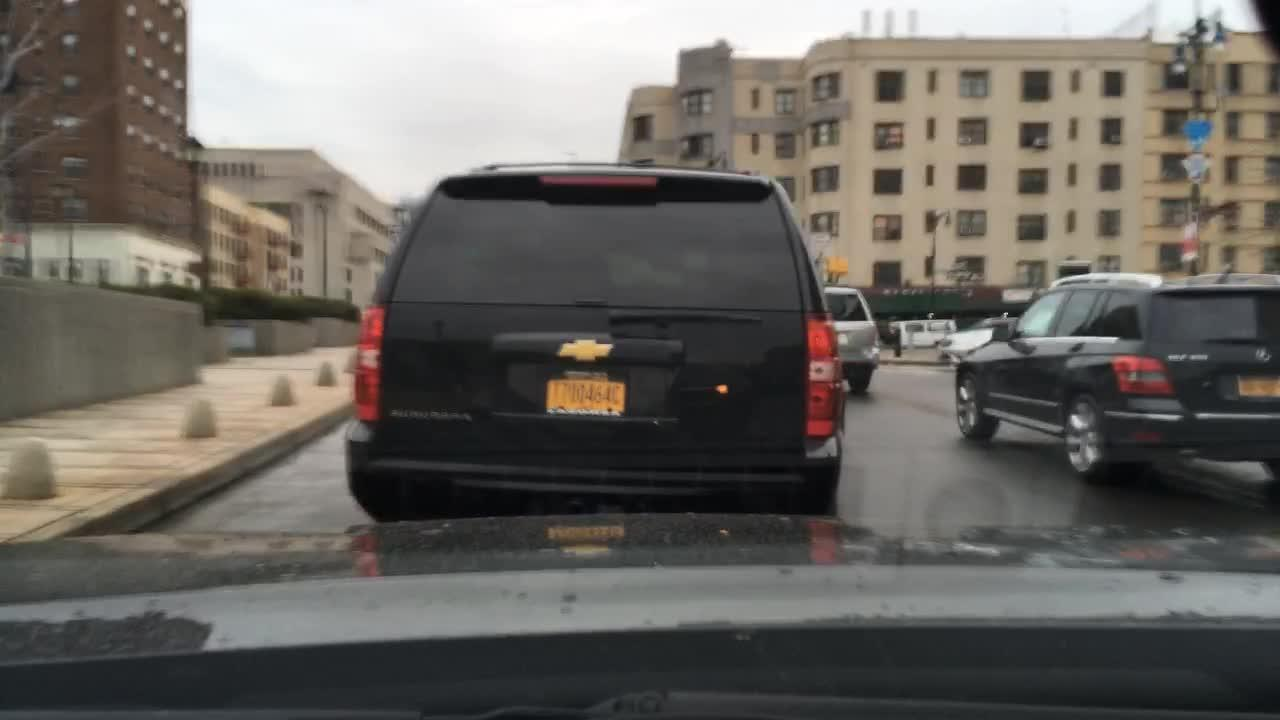chevrolet: (541, 324, 641, 385)
